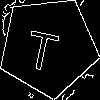T: (23, 21, 62, 72)
